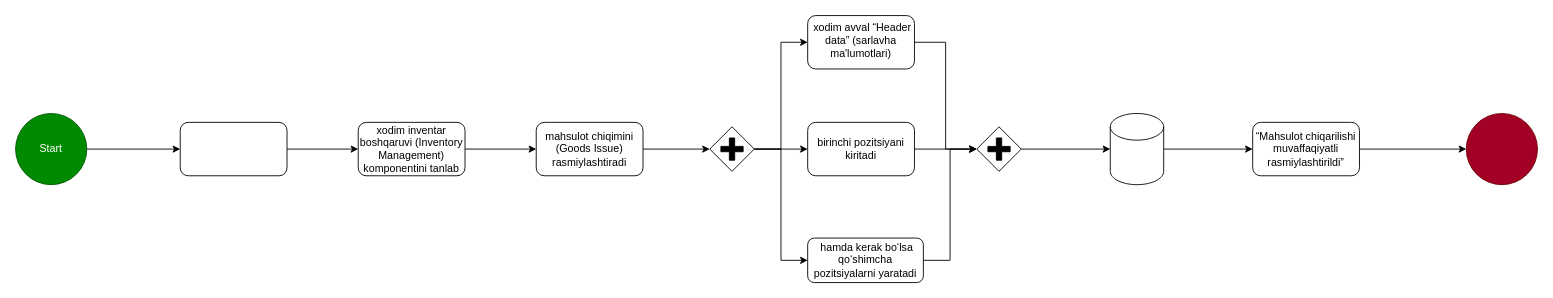
Some shapes in this 1553 by 298 pixel diagram are drawn without their labels. The centre of each missing label's shape, as x and y in pixels:
End: point 1501,149
kerakli mahsulotlar ombordan aniqlanadi: point 233,148
mahsulot chiqimi saqlanadi: point 1136,149
